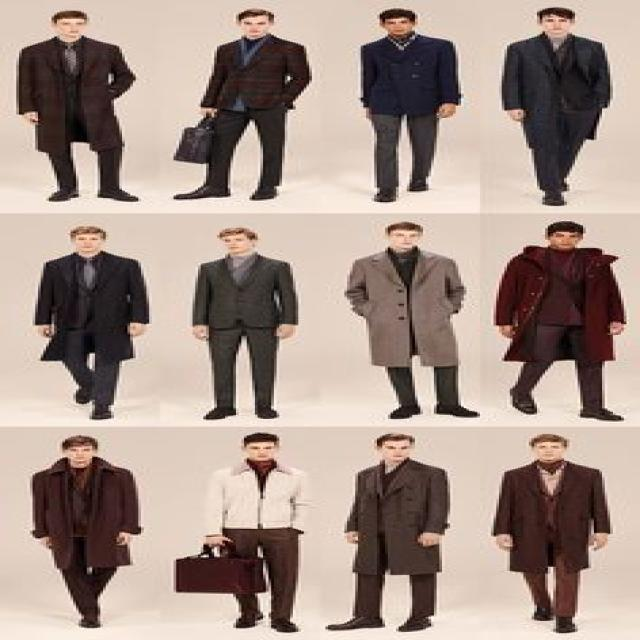person: (342, 221, 480, 419), (170, 8, 310, 199), (494, 220, 626, 420), (322, 432, 450, 632), (490, 432, 610, 632), (29, 225, 150, 419), (17, 9, 138, 200), (198, 431, 312, 632), (499, 7, 610, 205), (30, 435, 141, 628), (190, 226, 298, 419), (358, 8, 461, 202)
